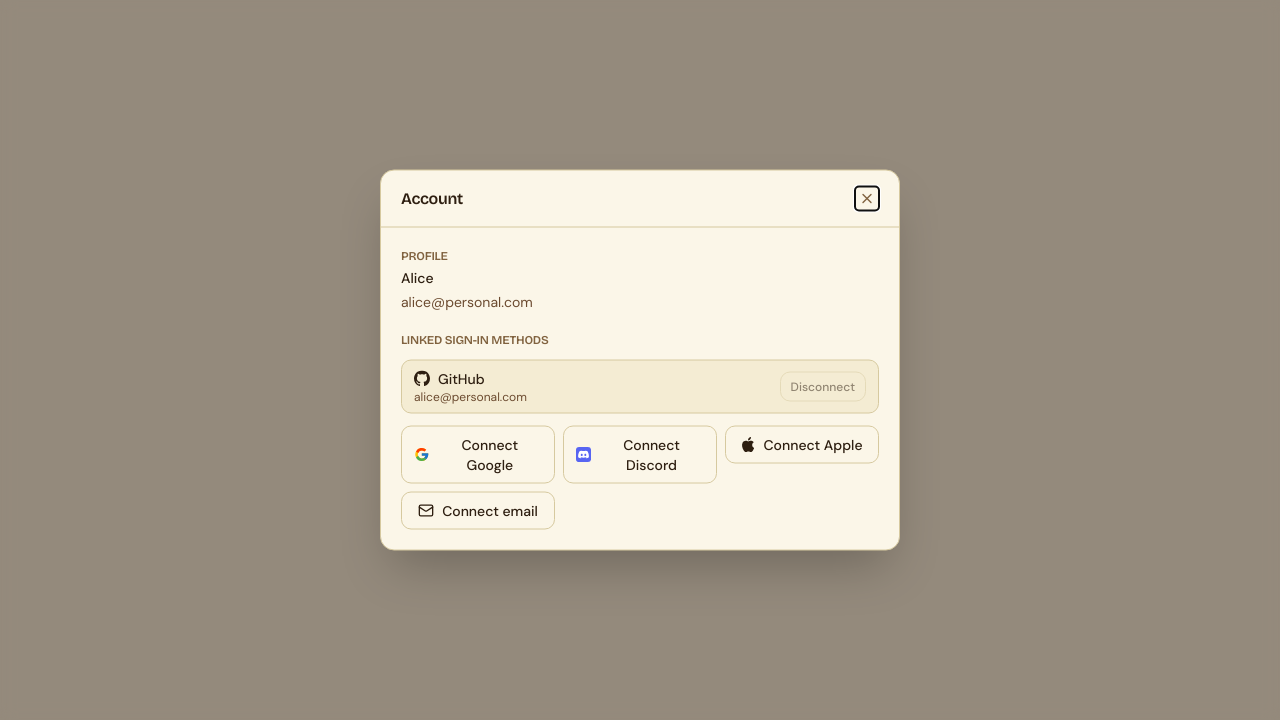
Test: AccountPanel › submits the magic-link email and shows the inbox confirmation
Click the button "Connect email" at (478, 510), box [401,492,555,530]
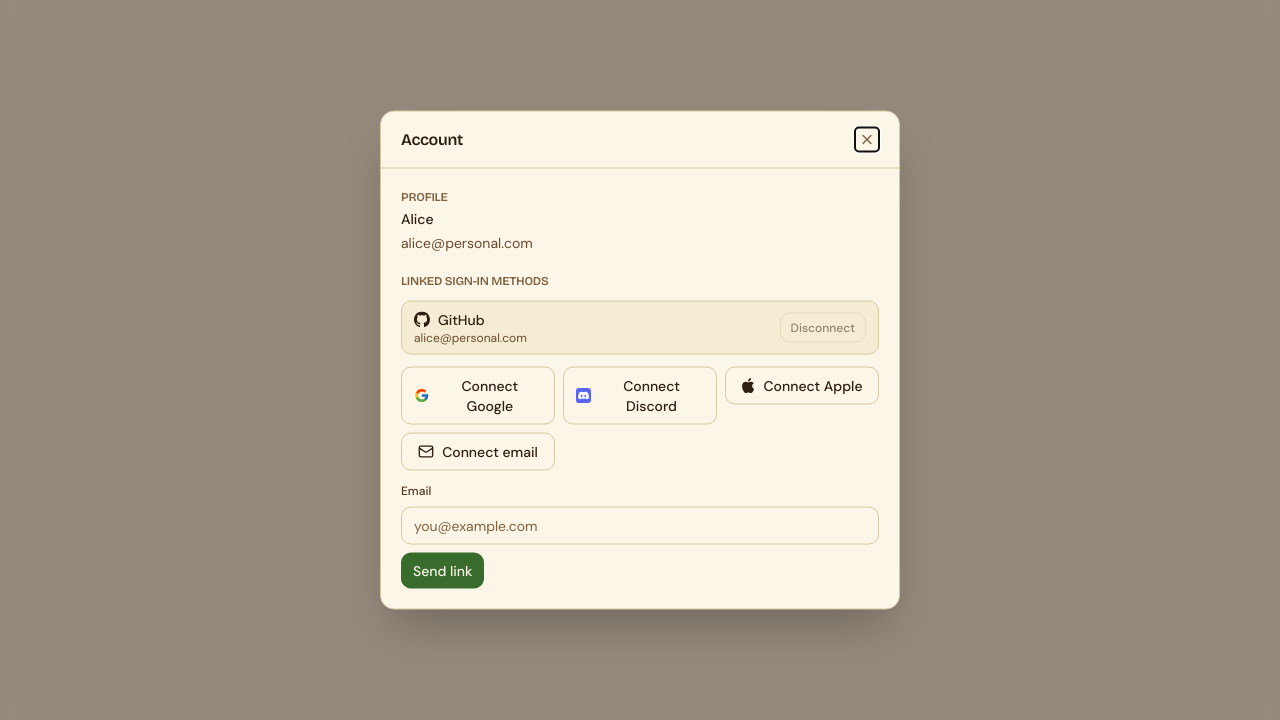
Type "alice@work.com" into the field labelled "Email" at (640, 526), box [401,506,879,544]
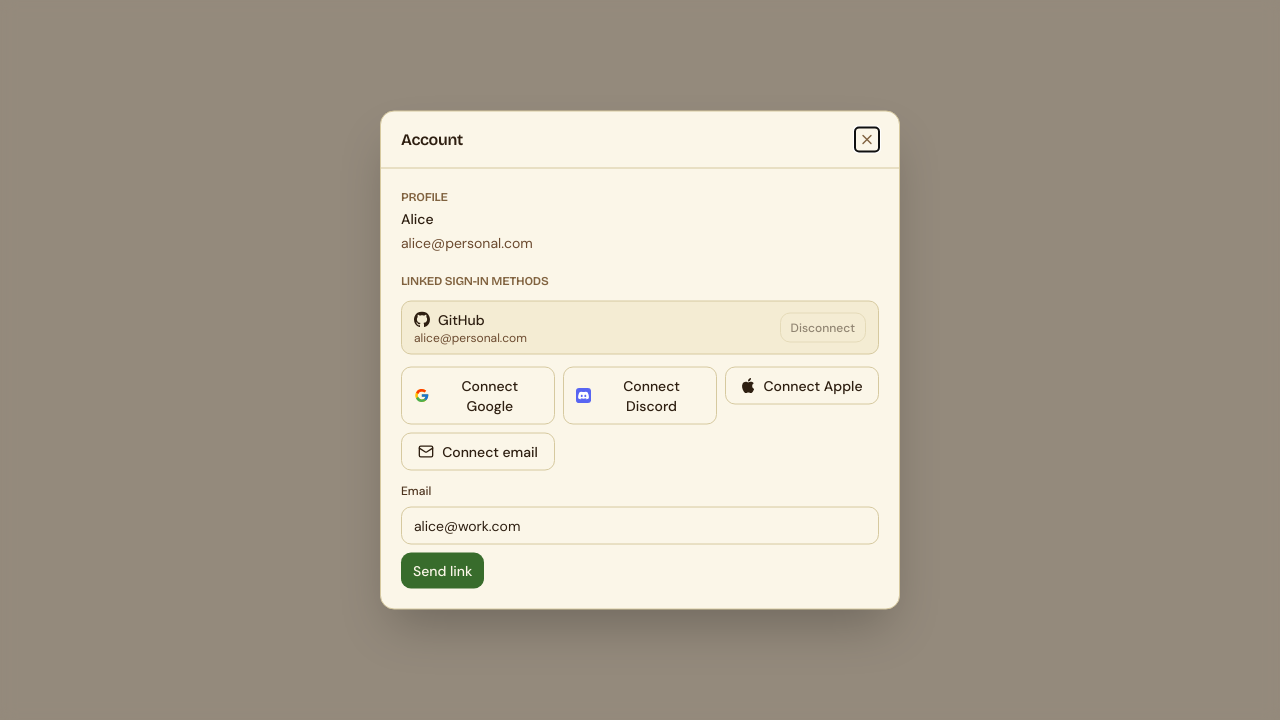
Click the button "Send link" at (443, 570), box [401,552,484,588]
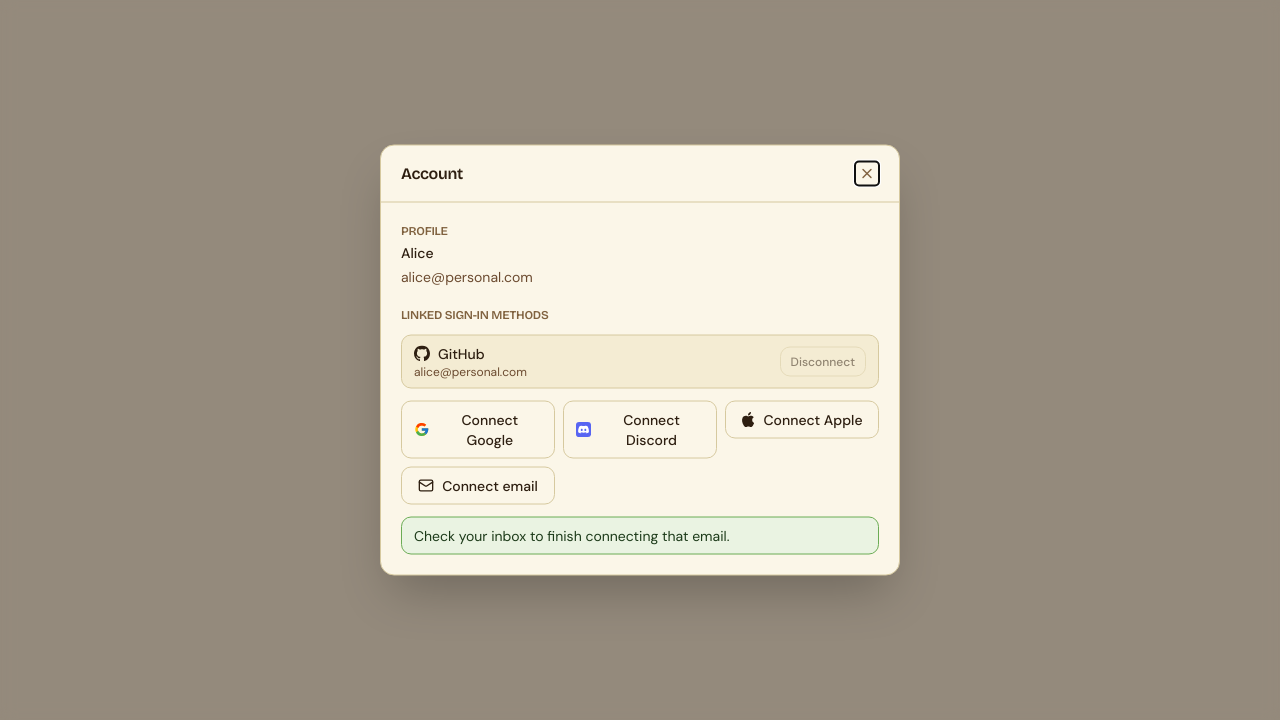
Check: the message shows "Check your inbox", box [414,526,730,544]
